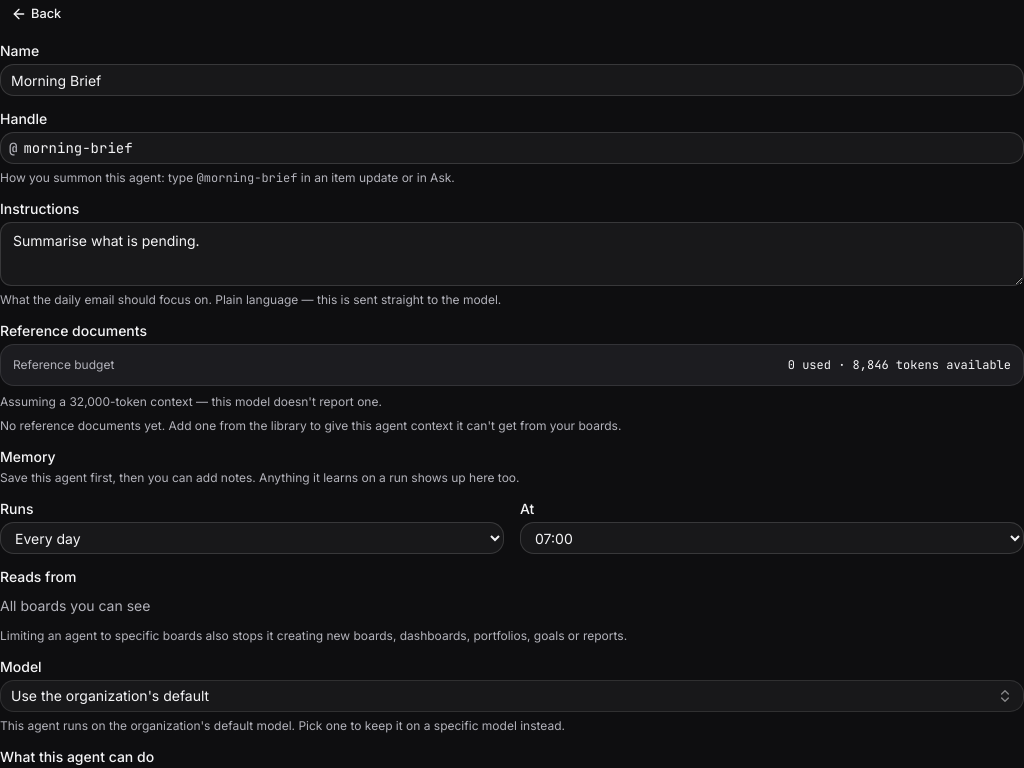
AgentEditor · model pin › lists a provider with no models yet and says what unlocks it
Click the dropdown labelled "Use the organization's default": (110, 696) x1=0 y1=680 x2=1023 y2=712
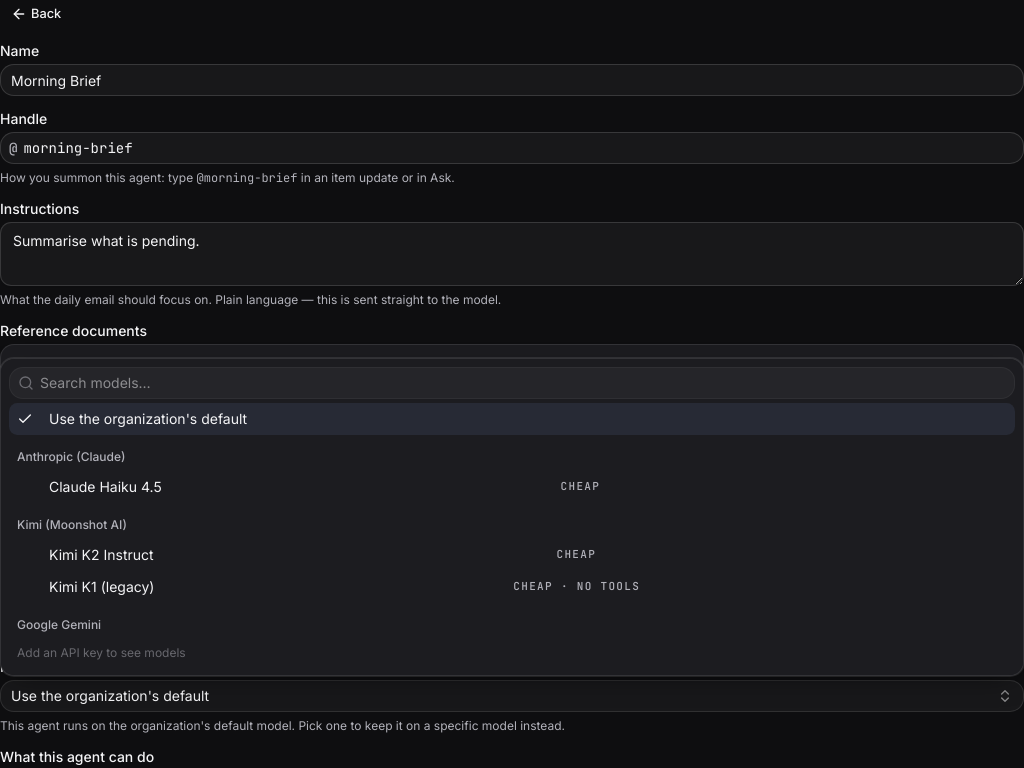
Result: the text "Google Gemini" is shown at x1=17 y1=617 x2=101 y2=632
